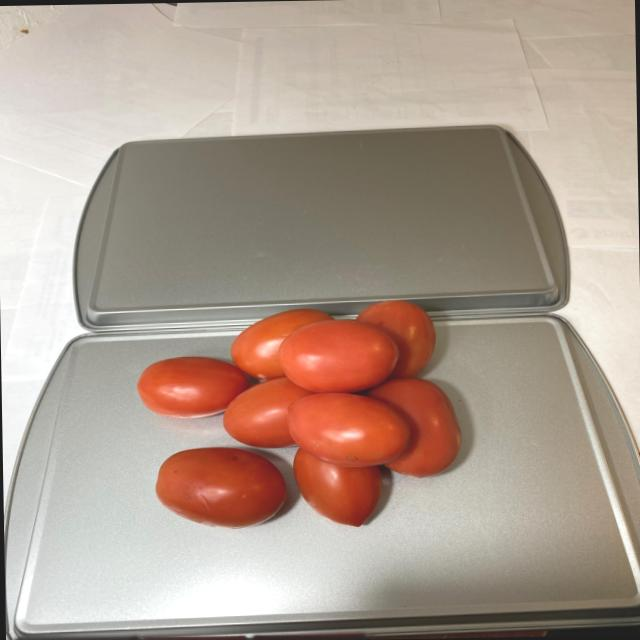tomato: (129, 299, 486, 533)
